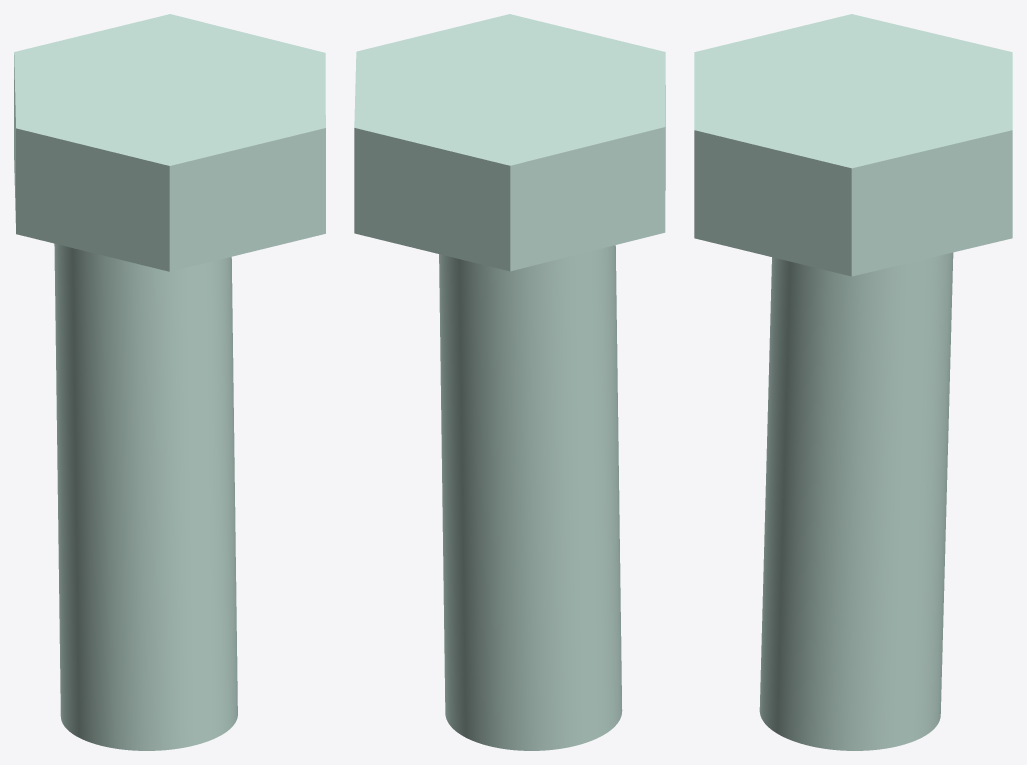
3 views of the same model, side by side, from view 1: azimuth 30°, elevation 25°; view 2: azimuth 150°, elevation 25°; view 3: azimuth 270°, elevation 25° (orthographic). The views are drawn at different scales.
Visible parts, largest first — view 1: Renderer Node; view 2: Renderer Node; view 3: Renderer Node.
Part boxes in pixels (box(x1,y1,x2,y2)): Renderer Node: box(14, 14, 325, 750); Renderer Node: box(354, 14, 665, 750); Renderer Node: box(694, 14, 1012, 750).
Bounding box in the file's own units: 0.3586 × 0.6873 × 0.3125.
